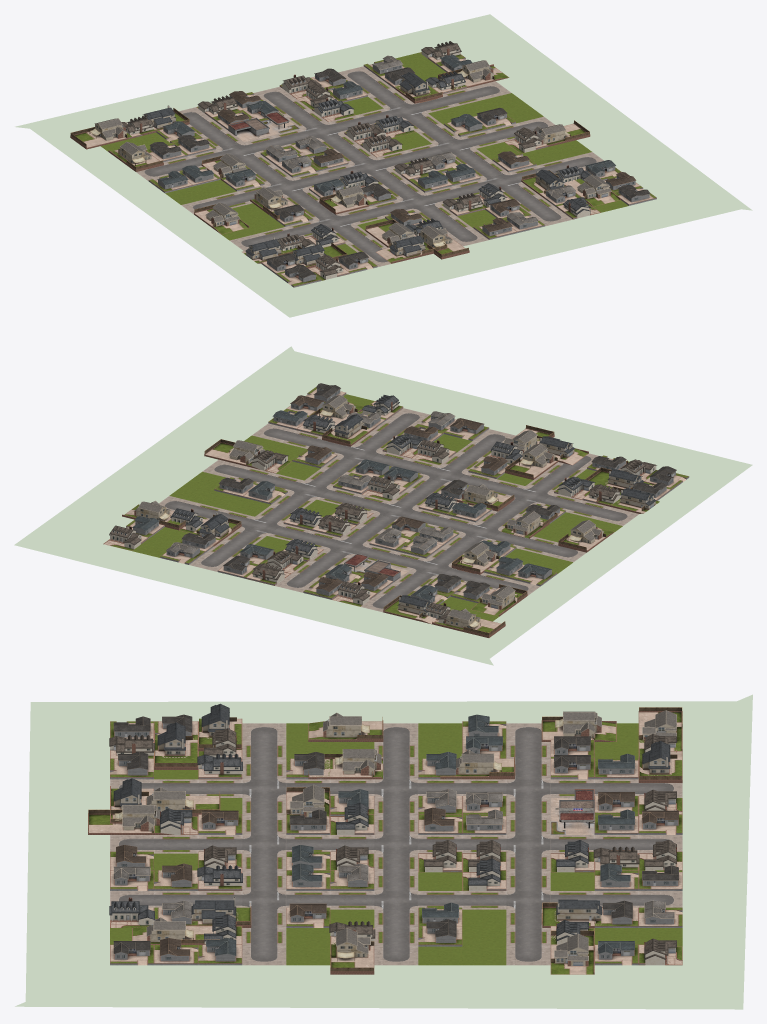
File: low_poly_city_v2.glb
3 views of the same model, one above another, from view 1: azimuth 30°, elevation 25°; view 2: azimuth 150°, elevation 25°; view 3: azimuth 270°, elevation 25° (orthographic). The views are drawn at different scales.
Visible parts, largest first — view 1: Object_6; view 2: Object_6; view 3: Object_6.
Part boxes in pixels (left/top/right/bottom): Object_6: left=15, top=14, right=752, bottom=317; Object_6: left=14, top=346, right=752, bottom=665; Object_6: left=15, top=694, right=752, bottom=1009.
Size of the model in its own units: 16.93 by 0.4804 by 16.78.
Materials: 1 (1 with a texture image).
